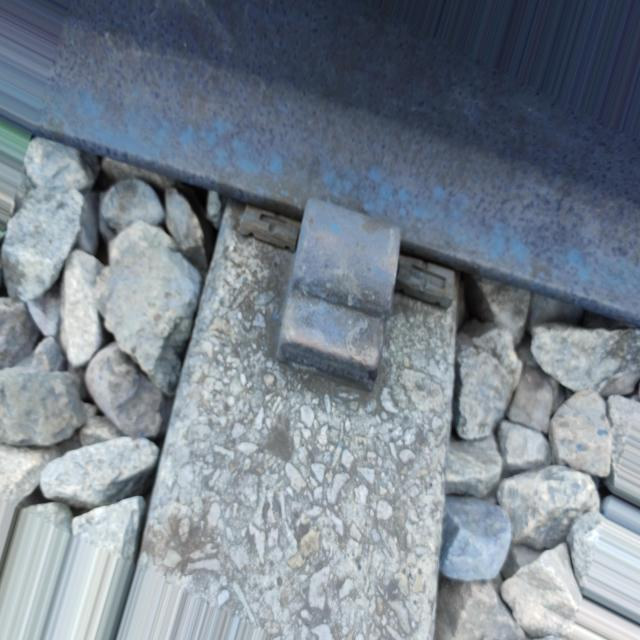Missing Fastener: (230, 164, 448, 423)
